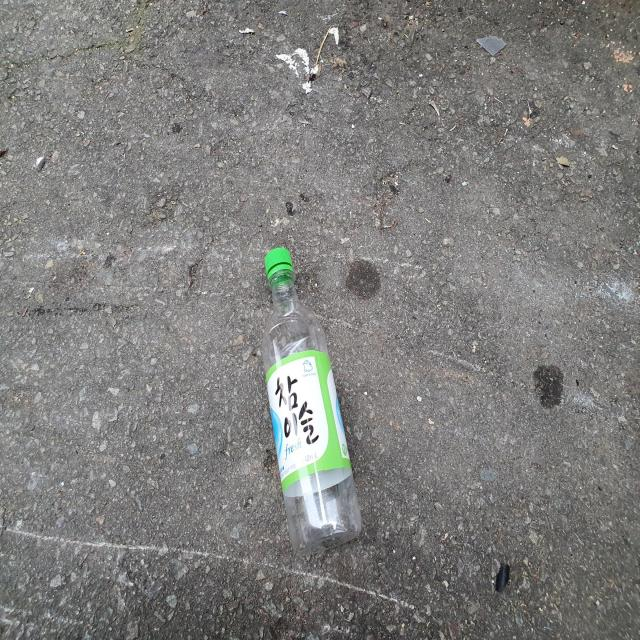plastic: (262, 247, 361, 556)
